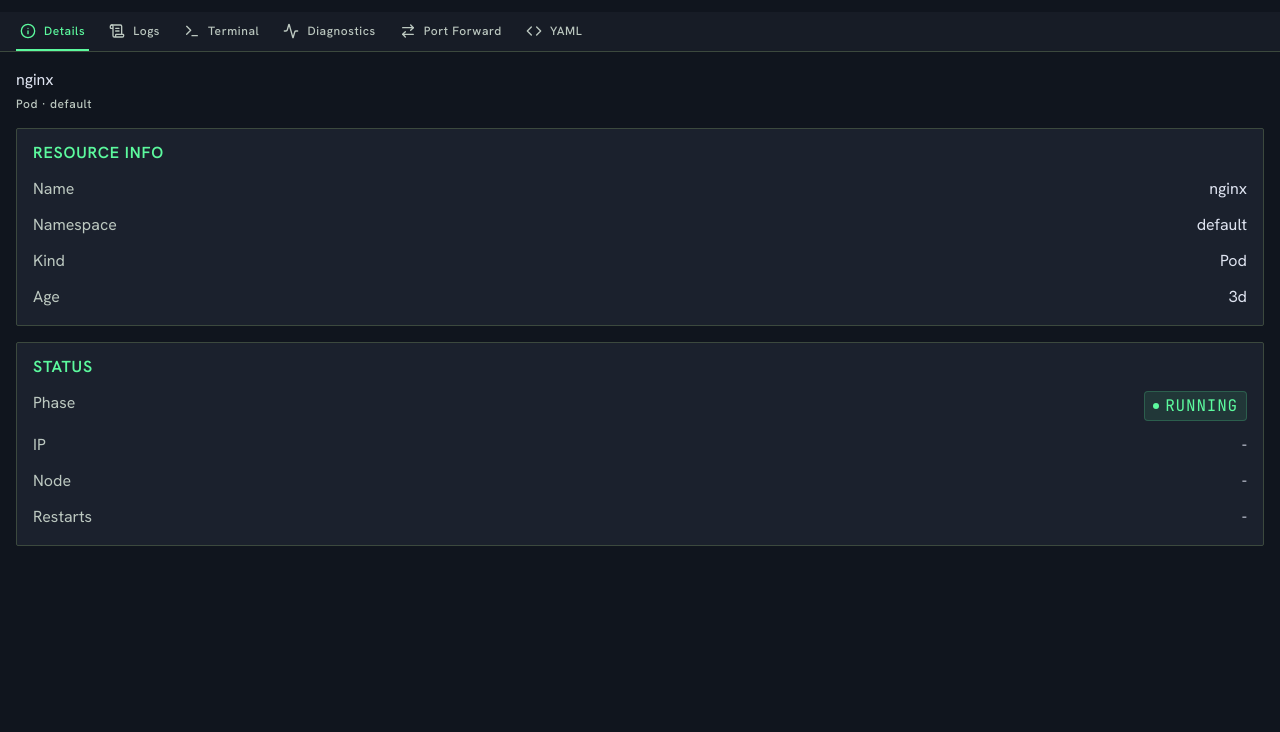
Test: PodDetailTabs › renders the Diagnostics tab UI
What coordinates should you click on to do the following:
click the button "Diagnostics"
I would click on:
 (330, 32)
Its box is x1=279 y1=12 x2=380 y2=51.
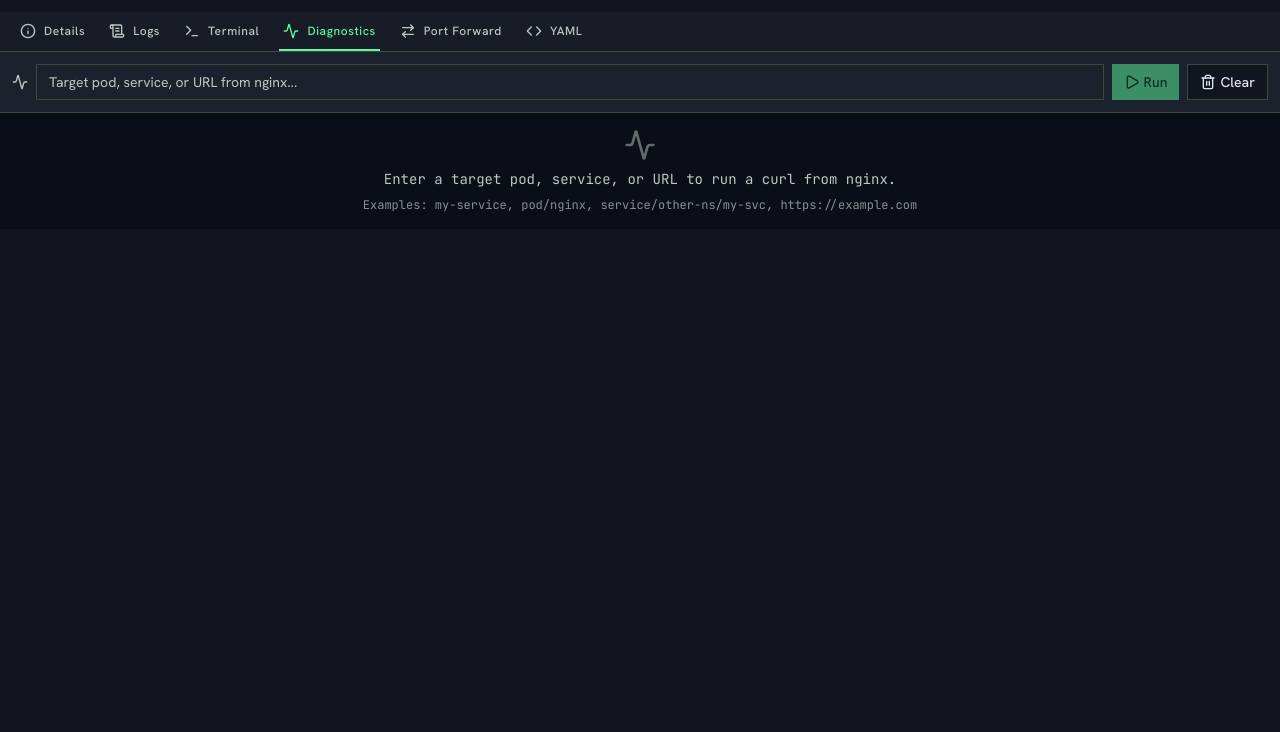
Check: the field with placeholder "Target pod, service, or URL from nginx..." is shown, box x1=36 y1=64 x2=1104 y2=100
